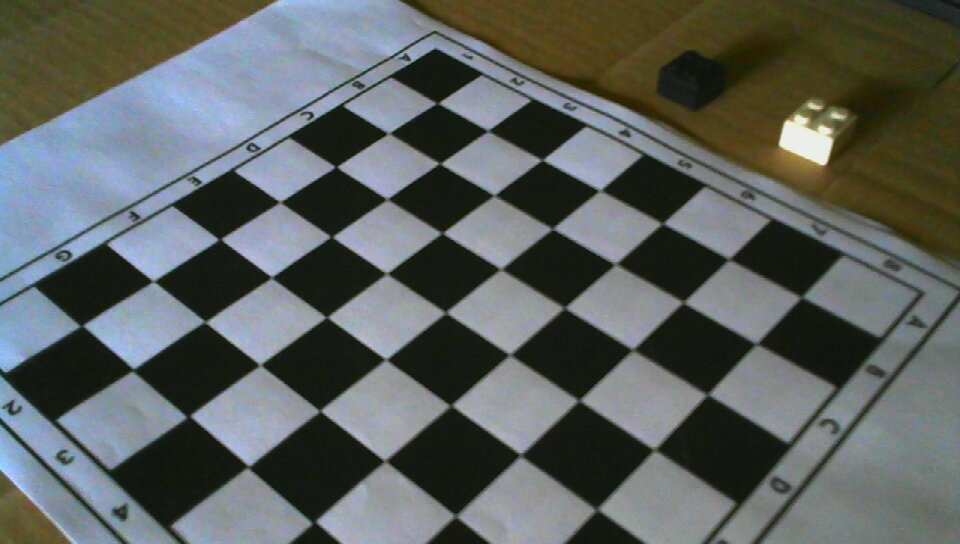bp: (659, 48, 725, 112)
wp: (779, 95, 859, 166)
